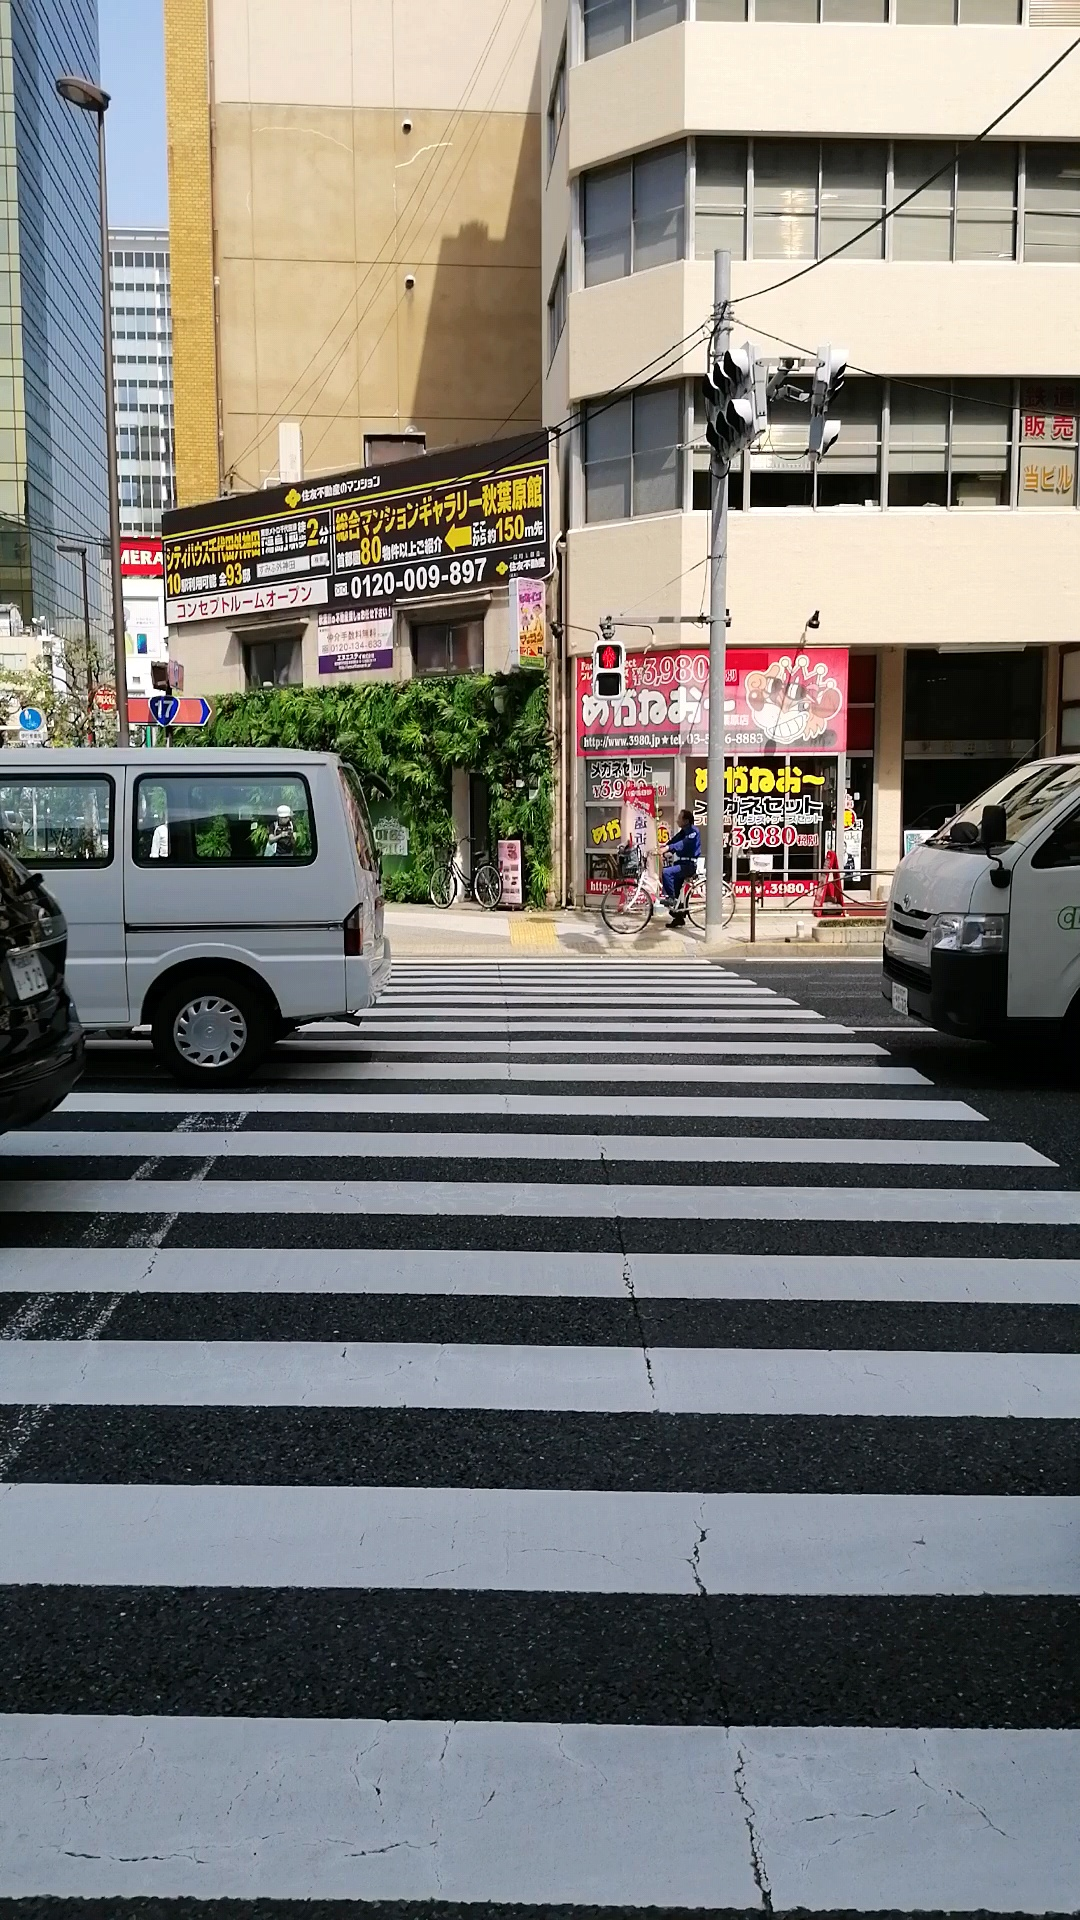red: (592, 640, 626, 698)
